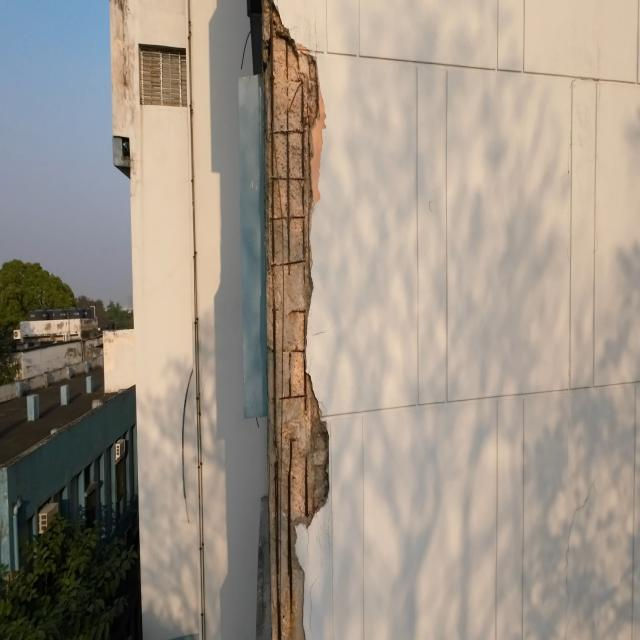Spalling: (257, 3, 340, 638)
